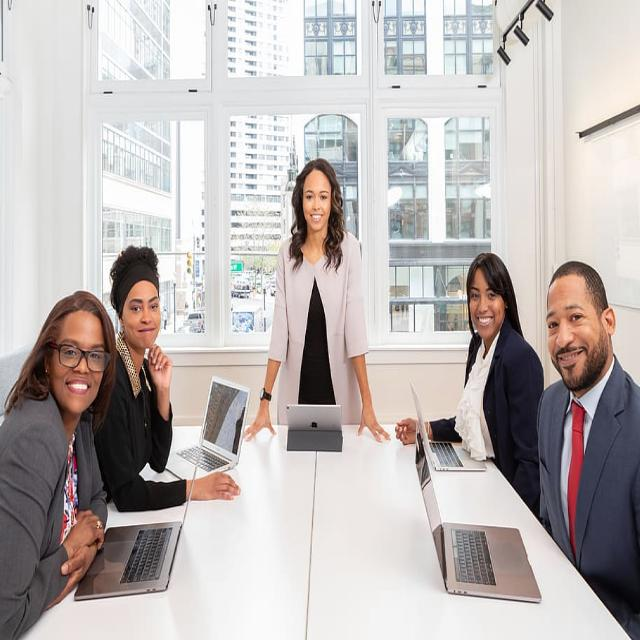adult: (0, 284, 121, 640), (84, 242, 238, 514), (248, 155, 387, 440), (536, 259, 636, 610), (397, 258, 539, 473)
